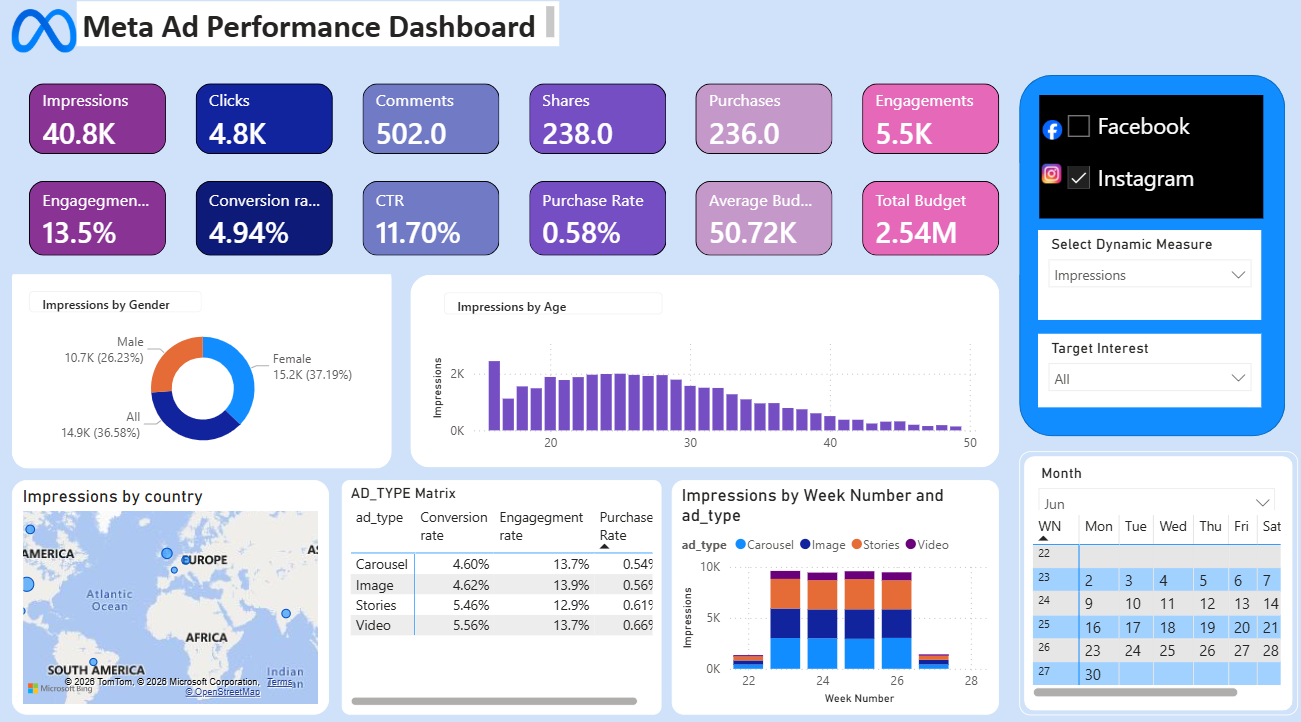

Layout of this report page (visuals, bound fields, positions):
{"tool":"powerbi","page":{"name":"Page 1","canvas":[1280,720],"ordinal":0},"visuals":[{"type":"shape","box":[1004.5,450.8,272.7,258.8],"z":0},{"type":"shape","box":[18.3,266.6,371.7,201.8],"z":1000},{"type":"textbox","box":[81.9,11,472,44],"z":2000},{"type":"image","box":[18.3,14.7,63.6,50.1],"z":3000},{"type":"shape","box":[1004.5,83.5,260.2,353.4],"z":4000},{"type":"slicer","fields":{"Values":["ads.ad_platform"]},"box":[1022.6,101.6,218.4,121],"z":5000},{"type":"cardVisual","fields":{"Data":["ad_events.Impressions","ad_events.Clicks","ad_events.Comments","ad_events.Shares","ad_events.Purchases","ad_events.Engagements"]},"box":[18.3,74.6,985.6,103.9],"z":6000},{"type":"cardVisual","fields":{"Data":["ad_events.Engagegment rate","ad_events.Conversion rate","ad_events.CTR","ad_events.Purchase Rate","ad_events.Average Budget per campaign","campaigns.Total Budget"]},"box":[18.3,170,985.6,107.6],"z":7000},{"type":"slicer","fields":{"Values":["Select Dynamic Measure.Select Dynamic Measure"]},"box":[1022.6,235.1,218.4,87.7],"z":8000},{"type":"donutChart","fields":{"Y":["ad_events.Impressions"],"Category":["ads.target_gender"]},"box":[29.3,320.4,352.2,139.4],"z":9000},{"type":"cardVisual","fields":{"Data":["ad_events.Gender Title","ad_events.Gender Title"]},"box":[18.9,277.4,203.3,55.2],"z":10000},{"type":"shape","box":[408.4,278.8,576,188.3],"z":11000},{"type":"columnChart","fields":{"Y":["ad_events.Impressions"],"Category":["users.user_age"]},"box":[424.3,333.8,544.2,127.2],"z":12000},{"type":"cardVisual","fields":{"Data":["ad_events.Age Title 1"]},"box":[424.3,278.8,248.2,56.3],"z":13000},{"type":"map","fields":{"Size":["ad_events.Impressions"],"Category":["users.country"]},"box":[18.3,479.4,310.6,229.9],"z":14000},{"type":"pivotTable","fields":{"Rows":["Calender Table.Week Number"],"Columns":["Calender Table.Day name"],"Values":["Min(Calender Table.Day Number)"]},"box":[1012.9,509.2,251.8,187.8],"z":15000},{"type":"slicer","fields":{"Values":["Calender Table.Month"]},"box":[1012.9,459.1,251.8,50.1],"z":16000},{"type":"columnChart","fields":{"Y":["ad_events.Impressions"],"Category":["Calender Table.Week Number"],"Series":["ads.ad_type"]},"box":[664,479.4,320.4,229.9],"z":17000},{"type":"pivotTable","title":"AD_TYPE Matrix","fields":{"Rows":["ads.ad_type"],"Values":["ad_events.Conversion rate","ad_events.Engagegment rate","ad_events.Purchase Rate"]},"box":[341.2,479.4,313,229.9],"z":18000},{"type":"image","box":[1025.4,116.9,20.9,19.5],"z":19000},{"type":"image","box":[1025.4,169.7,19.5,19.5],"z":20000},{"type":"slicer","fields":{"Values":["ads.target_interests"]},"box":[1022.6,336.7,218.4,72.3],"z":20001}]}

Visuals, with their boxes in screenshot pixels (x1, y1, x2, y2), scaled from the page's 1280x720 canvas onto the 1301x722 screenshot:
shape: crop(1021, 452, 1298, 712)
shape: crop(19, 267, 396, 470)
textbox: crop(83, 11, 563, 55)
image: crop(19, 15, 83, 65)
shape: crop(1021, 84, 1285, 438)
slicer - ads.ad_platform: crop(1039, 102, 1261, 223)
cardVisual - ad_events.Impressions x ad_events.Clicks: crop(19, 75, 1020, 179)
cardVisual - ad_events.Engagegment rate x ad_events.Conversion rate: crop(19, 170, 1020, 278)
slicer - Select Dynamic Measure.Select Dynamic Measure: crop(1039, 236, 1261, 324)
donutChart - ad_events.Impressions x ads.target_gender: crop(30, 321, 388, 461)
cardVisual - ad_events.Gender Title x ad_events.Gender Title: crop(19, 278, 226, 334)
shape: crop(415, 280, 1001, 468)
columnChart - ad_events.Impressions x users.user_age: crop(431, 335, 984, 462)
cardVisual - ad_events.Age Title 1: crop(431, 280, 684, 336)
map - ad_events.Impressions x users.country: crop(19, 481, 334, 711)
pivotTable - Calender Table.Week Number x Calender Table.Day name: crop(1030, 511, 1285, 699)
slicer - Calender Table.Month: crop(1030, 460, 1285, 511)
columnChart - ad_events.Impressions x Calender Table.Week Number: crop(675, 481, 1001, 711)
"AD_TYPE Matrix" pivotTable: crop(347, 481, 665, 711)
image: crop(1042, 117, 1063, 137)
image: crop(1042, 170, 1062, 190)
slicer - ads.target_interests: crop(1039, 338, 1261, 410)
